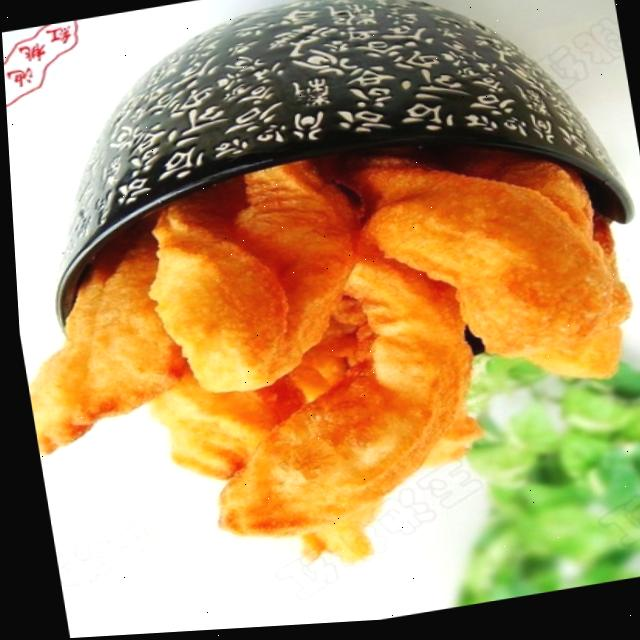炸货点心: (4, 64, 640, 619)
